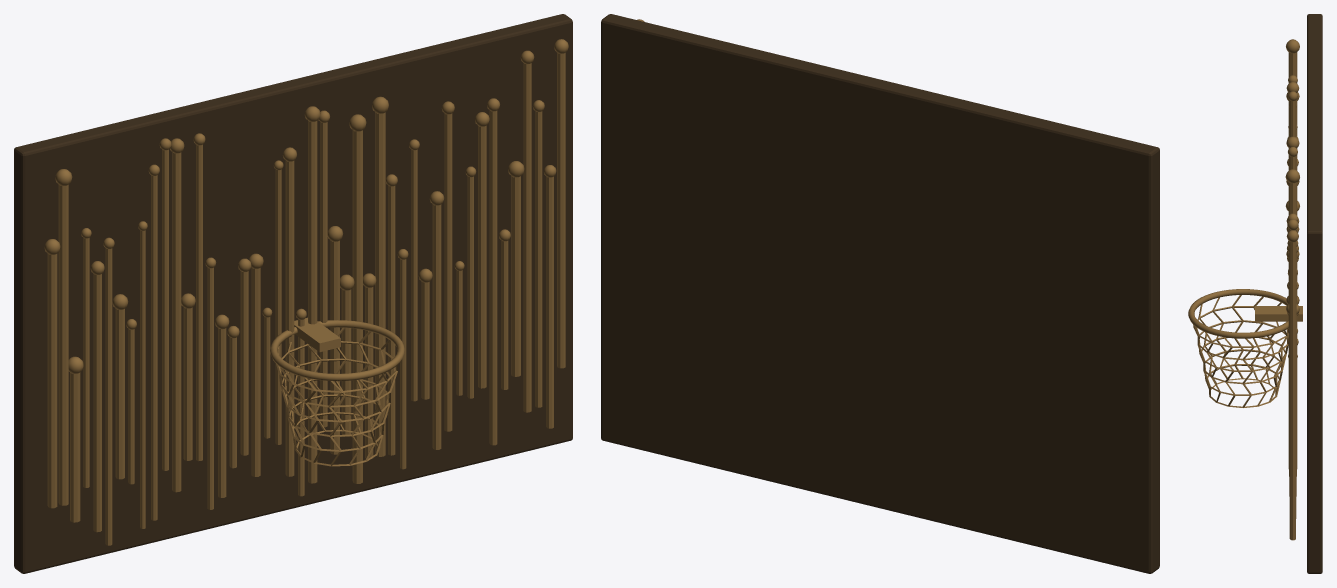
The model's file is bronzehoop.glb.
The picture shows the model from 3 angles, left to right: view 1: azimuth 30°, elevation 25°; view 2: azimuth 150°, elevation 25°; view 3: azimuth 270°, elevation 25°; orthographic projection. The views are drawn at different scales.
Parts seen in each view (by area): view 1: Cube, net, Cylinder.001, Cylinder.011, Cylinder.027, Cylinder.029, Cylinder.042, Cylinder.039, Cylinder.023, Cylinder.035, Cylinder.045, Cylinder (+38 smaller); view 2: Cube; view 3: Cube, net, Cylinder.045, Torus, Cylinder.029, Cube.001, Cylinder.001, Cylinder.041, Cylinder.044, Cylinder.013.
Part boxes in pixels (bbox=[...]): Cube: bbox=[14, 14, 572, 573]; net: bbox=[276, 327, 397, 466]; Cylinder.001: bbox=[58, 184, 68, 505]; Cylinder.011: bbox=[172, 152, 181, 492]; Cylinder.027: bbox=[352, 130, 362, 483]; Cylinder.029: bbox=[375, 112, 385, 456]; Cylinder.042: bbox=[523, 63, 531, 412]; Cylinder.039: bbox=[489, 110, 497, 445]; Cylinder.023: bbox=[308, 121, 317, 483]; Cylinder.035: bbox=[444, 113, 452, 431]; Cylinder.045: bbox=[557, 52, 565, 368]; Cylinder: bbox=[47, 253, 57, 508]; Cube: bbox=[601, 14, 1159, 573]; Cube: bbox=[1307, 14, 1322, 573]; net: bbox=[1193, 295, 1288, 407]; Cylinder.045: bbox=[1289, 241, 1296, 497]; Torus: bbox=[1188, 289, 1288, 338]; Cylinder.029: bbox=[1288, 182, 1297, 460]; Cube.001: bbox=[1255, 306, 1302, 321]; Cylinder.001: bbox=[1288, 52, 1297, 170]; Cylinder.041: bbox=[1289, 315, 1296, 476]; Cylinder.044: bbox=[1289, 497, 1295, 540]; Cylinder.013: bbox=[1290, 100, 1295, 136].
Size of the model in its own units: 1.3 by 0.95 by 0.338.
